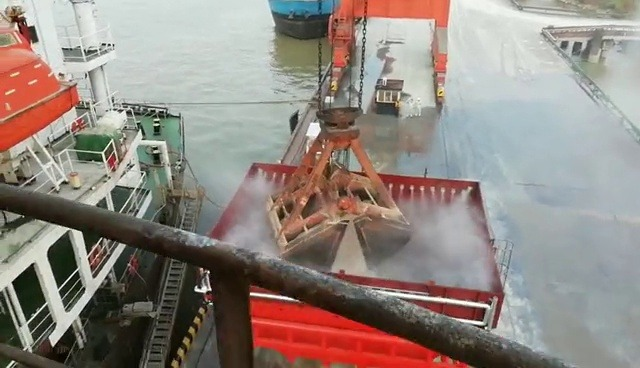dust: (202, 168, 500, 291)
grab: (263, 88, 421, 275)
